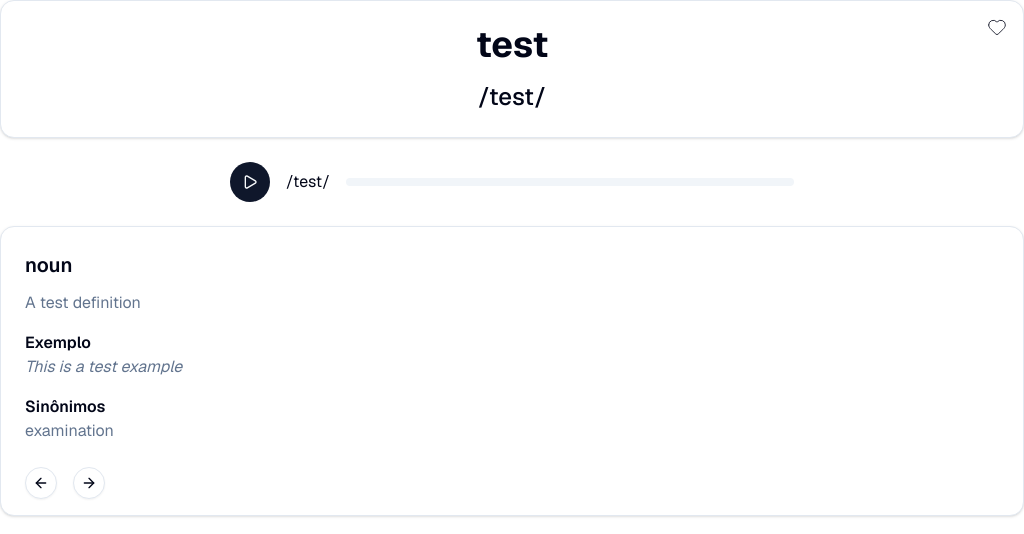
WordCard › should navigate between meanings
The width and height of the screenshot is (1024, 534).
Expected: the heading "noun" is shown, [25,252,73,278]
Expected: the text "A test definition" is shown, [25,292,141,313]
What coordinates should you click on to do the following:
click the 4th button
I would click on:
 (89, 483)
Its box is [73,467,105,499].
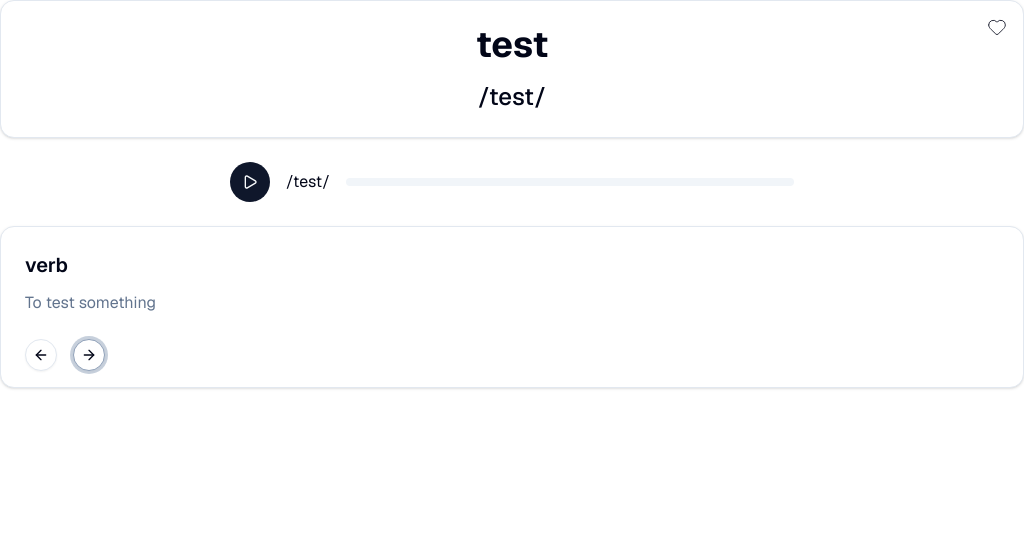
Now the heading "verb" is shown, box [25,252,68,278]
Now the text "To test something" is shown, box [25,292,156,313]
What coordinates should you click on to do the following:
click the 3rd button
I would click on:
 (41, 355)
Its box is [25,339,57,371].
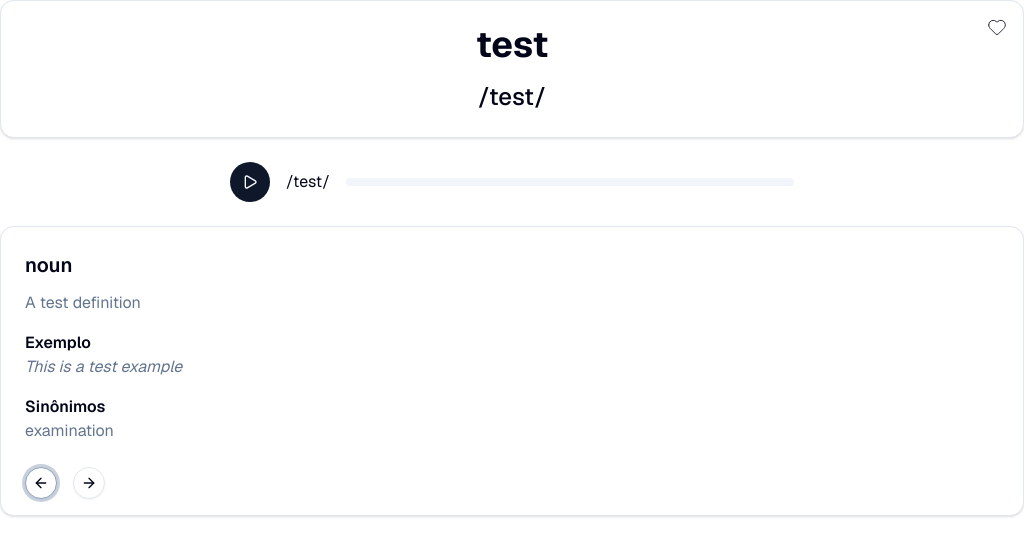
Now the heading "noun" is shown, box [25,252,73,278]
Now the text "A test definition" is shown, box [25,292,141,313]
